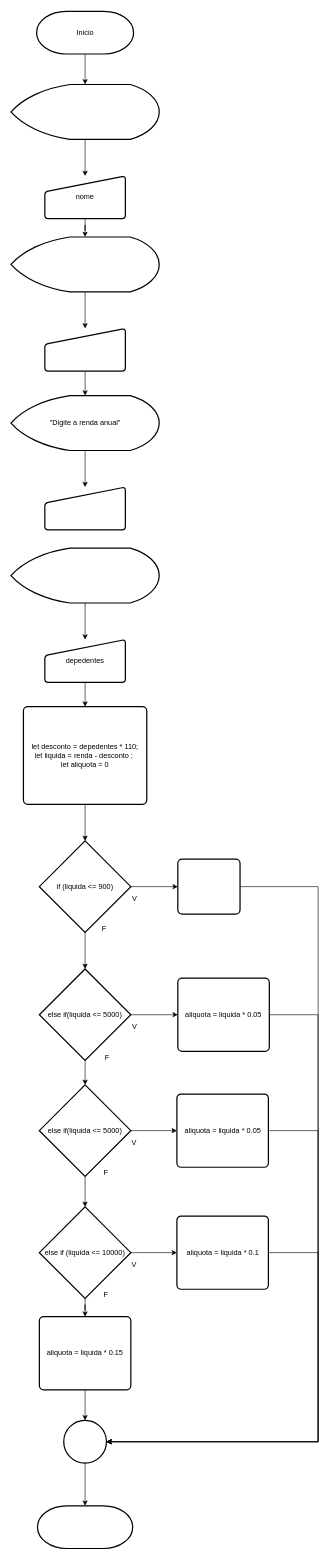
The diagram is 334 pixels wide and 1559 high, and some of its shapes have lost their labels. Here are the shapes that lost their labels. From the top down, the centre of each, then its label:
(x=85, y=112): "Digite o nome do contribuinte"
(x=85, y=264): "Digite o CPF"
(x=85, y=349): cpf
(x=85, y=508): renda
(x=85, y=575): "Digite o numero de dependentes"
(x=208, y=886): aliquota = 0
(x=85, y=1527): Fim
